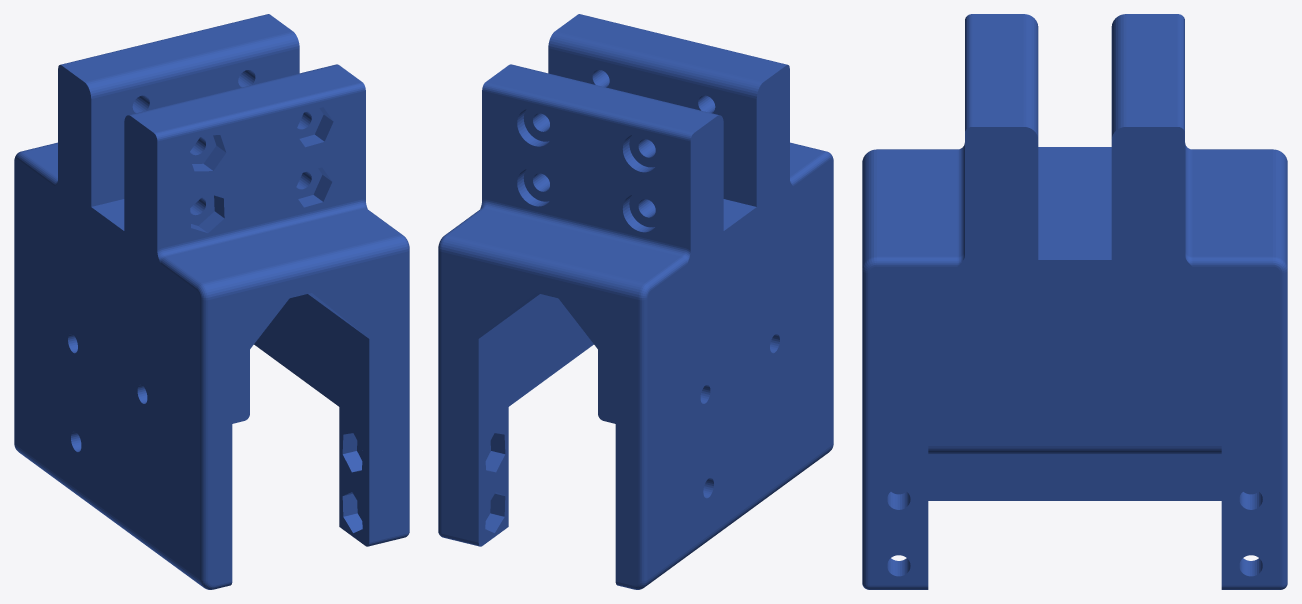
File: joint3_link_2peace 1.dae
3 renders of one model, left to right at view 1: azimuth 30°, elevation 25°; view 2: azimuth 150°, elevation 25°; view 3: azimuth 270°, elevation 25°, orthographic. The views are drawn at different scales.
Parts seen in each view (by area): view 1: ID2; view 2: ID2; view 3: ID2.
Part boxes in pixels (x1=…): ID2: x1=14, y1=14, x2=409, y2=589; ID2: x1=438, y1=14, x2=833, y2=589; ID2: x1=862, y1=14, x2=1287, y2=589.
Size of the model in its own units: 0.0364 by 0.058 by 0.0709.
